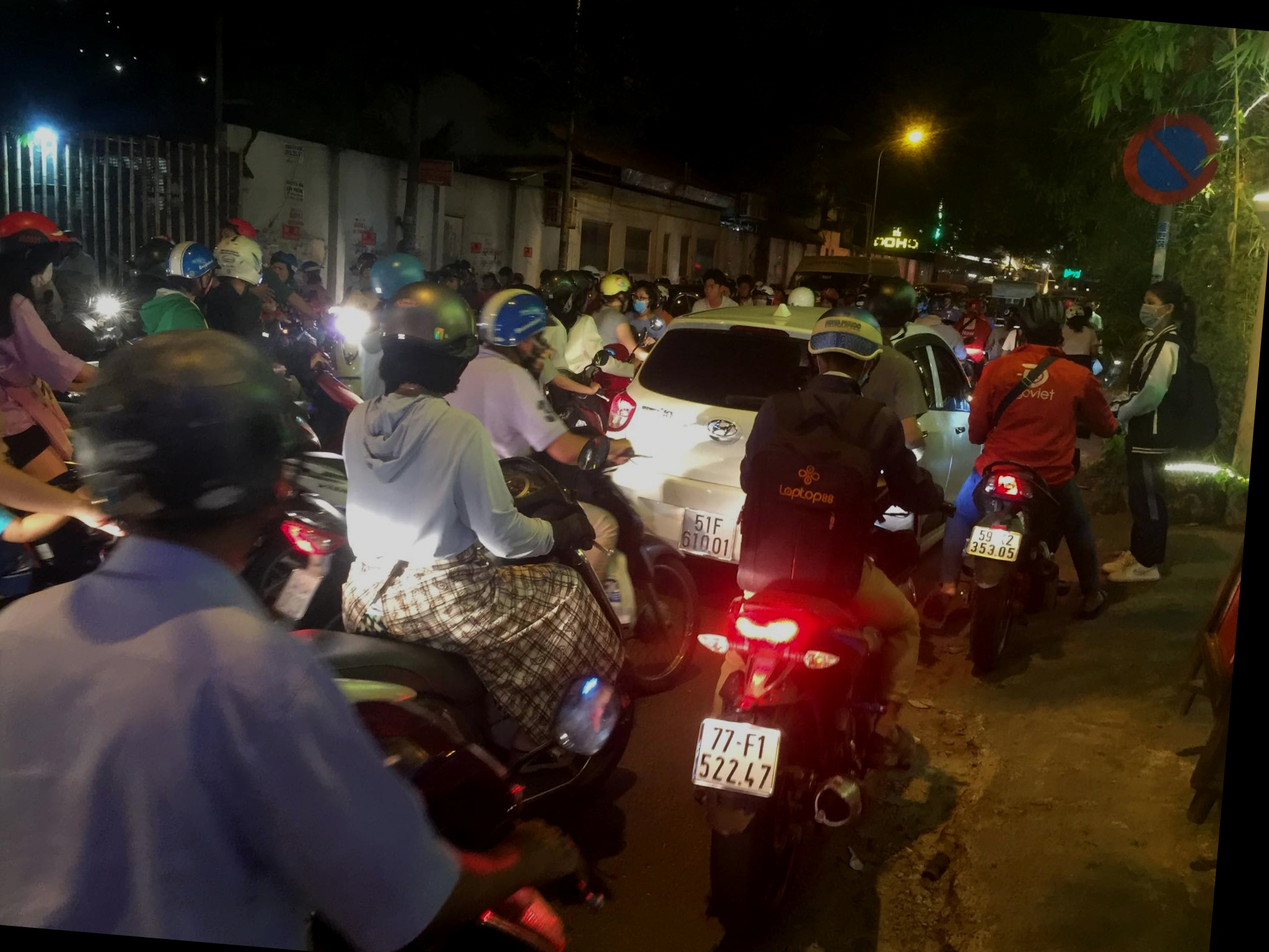Bien-so: (801, 699, 880, 771), (360, 614, 414, 672), (756, 509, 814, 560), (1042, 486, 1095, 528)
